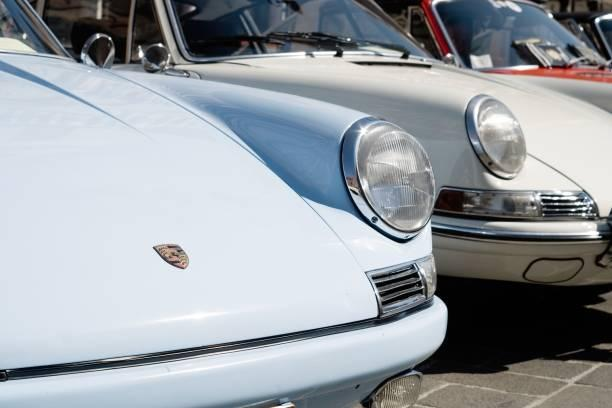porsche: (147, 237, 202, 279)
